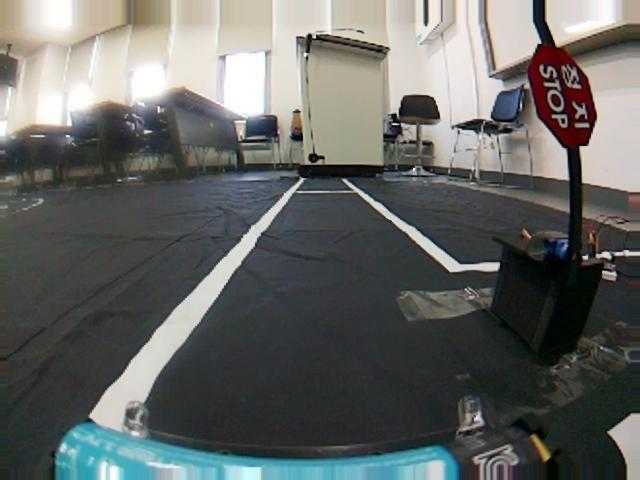sign_stop: (525, 41, 600, 151)
straight: (5, 190, 639, 480)
